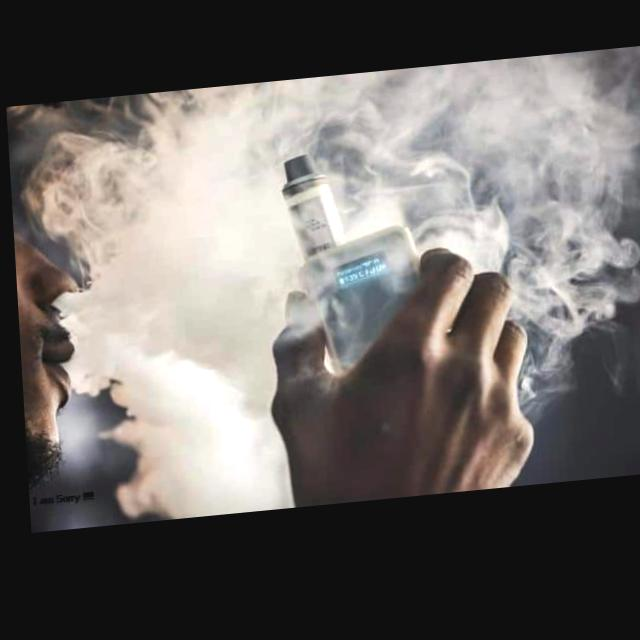vape: (279, 153, 420, 383)
